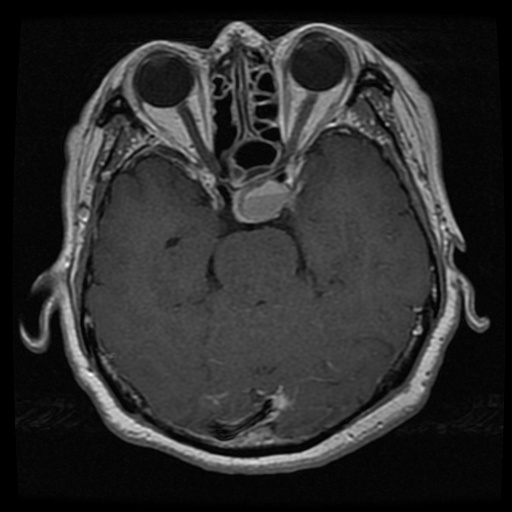pituitary: (233, 181, 294, 224)
